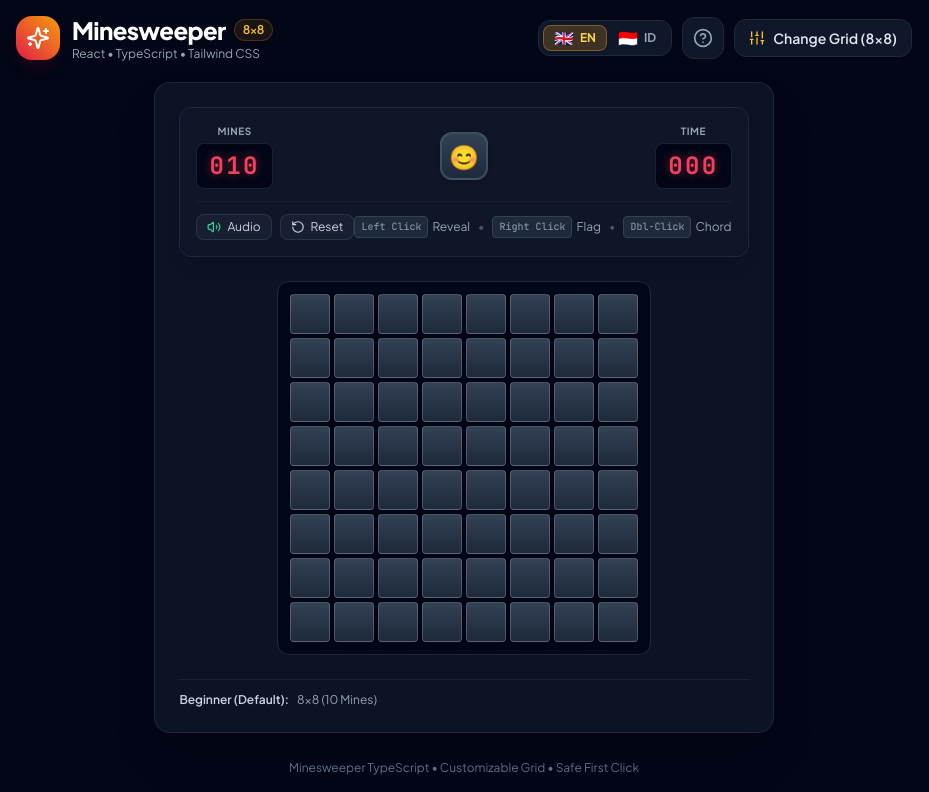
Test case: App component (Integration) › places a flag on right click and decrements remaining mine counter
Right-click the button named "Row 1, Column 1, Unrevealed": (310, 314) [290,294,330,334]
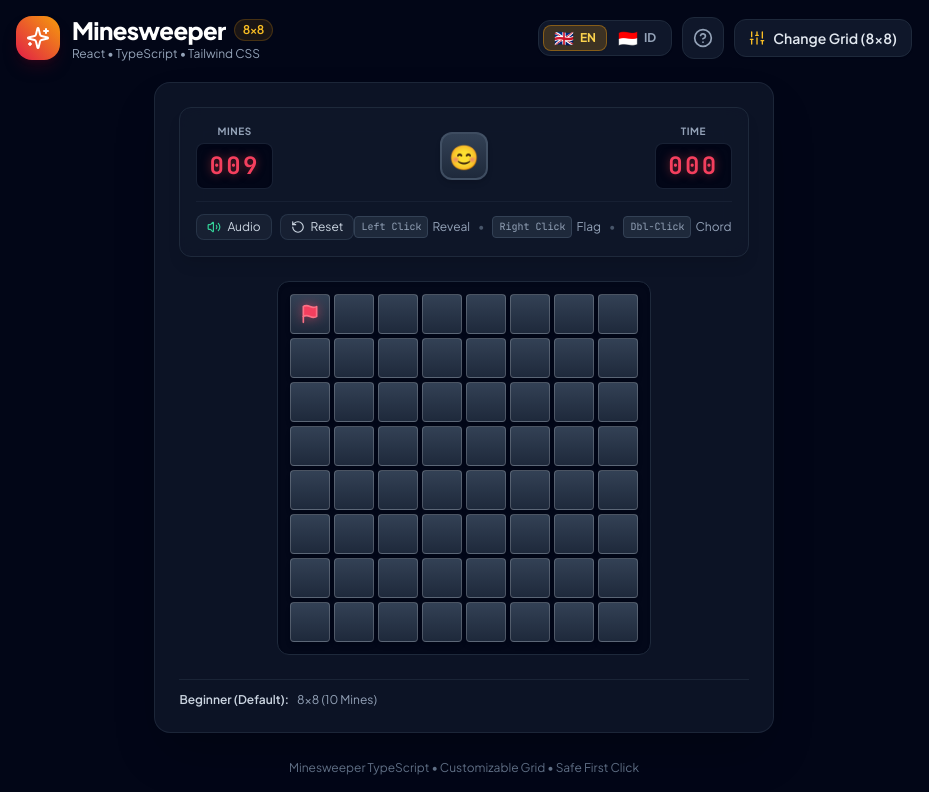
Expected: the text "009" is shown, [209,150,260,182]
Right-clicking again removes flag
Right-click the button named "Row 1, Column 1, Flag": (310, 314) [290,294,330,334]
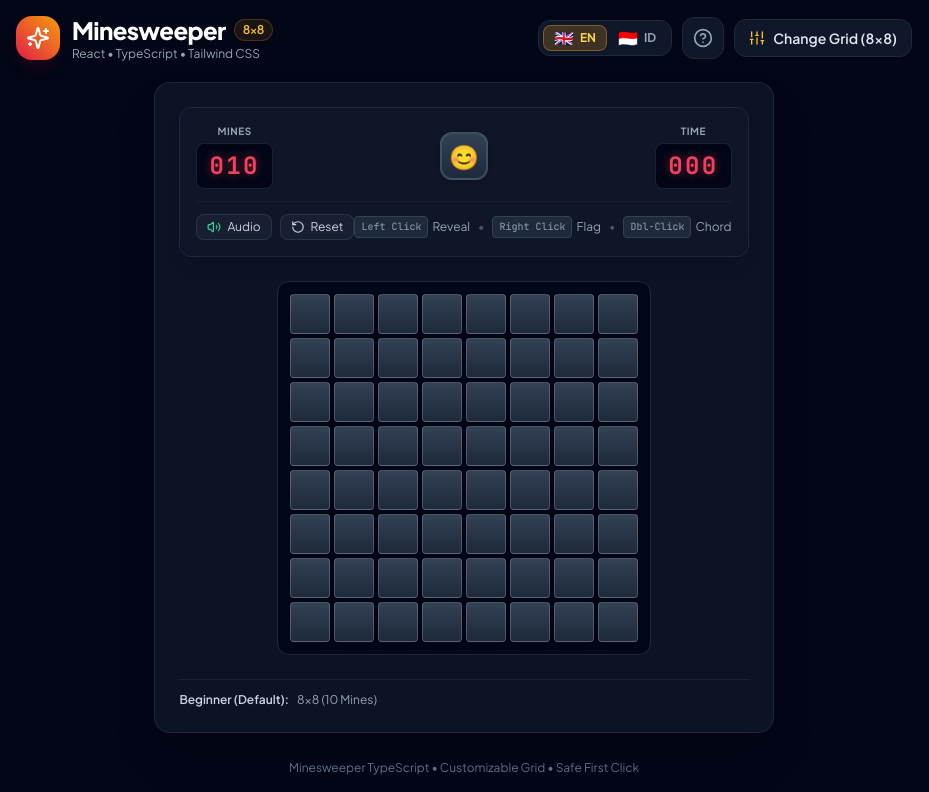
Expected: the text "010" is shown, [209,150,260,182]
